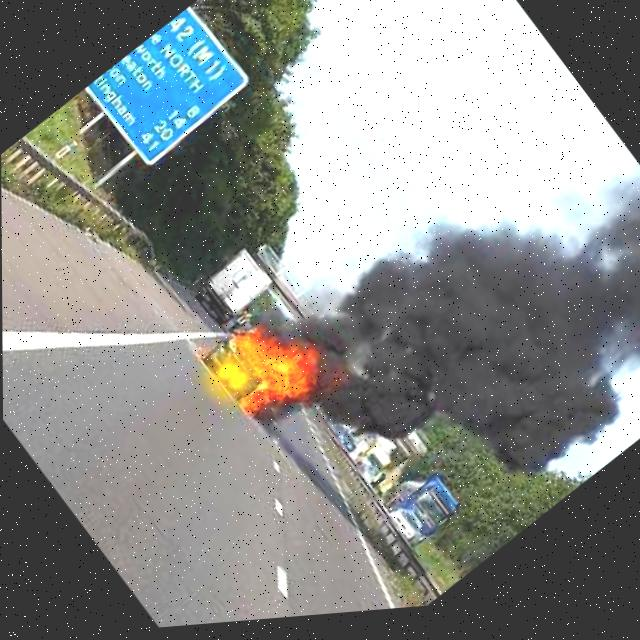Fire: (203, 297, 345, 447)
Smoke: (285, 97, 640, 590)
